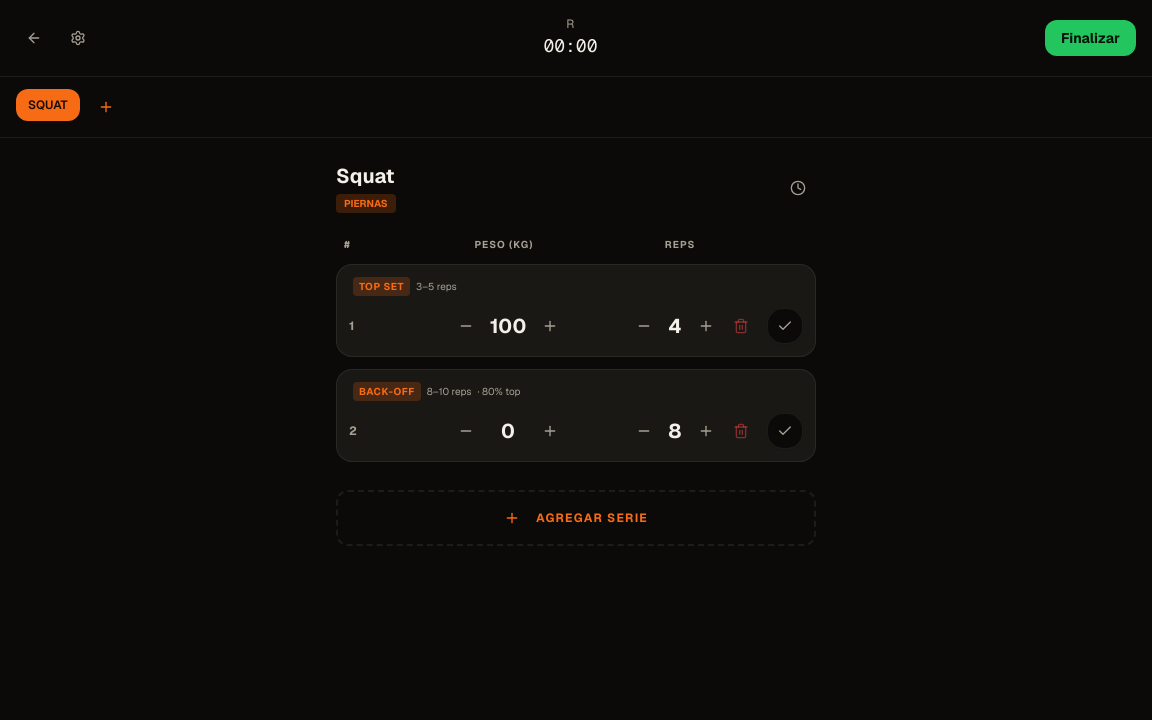
Test: ActiveWorkout removeSet on un-logged plan-driven rows › removes an un-logged planned set locally, without calling deleteWorkoutSet
Step 1. Click the button named "Borrar serie" below "80" → (741, 431), box [723, 413, 759, 449]
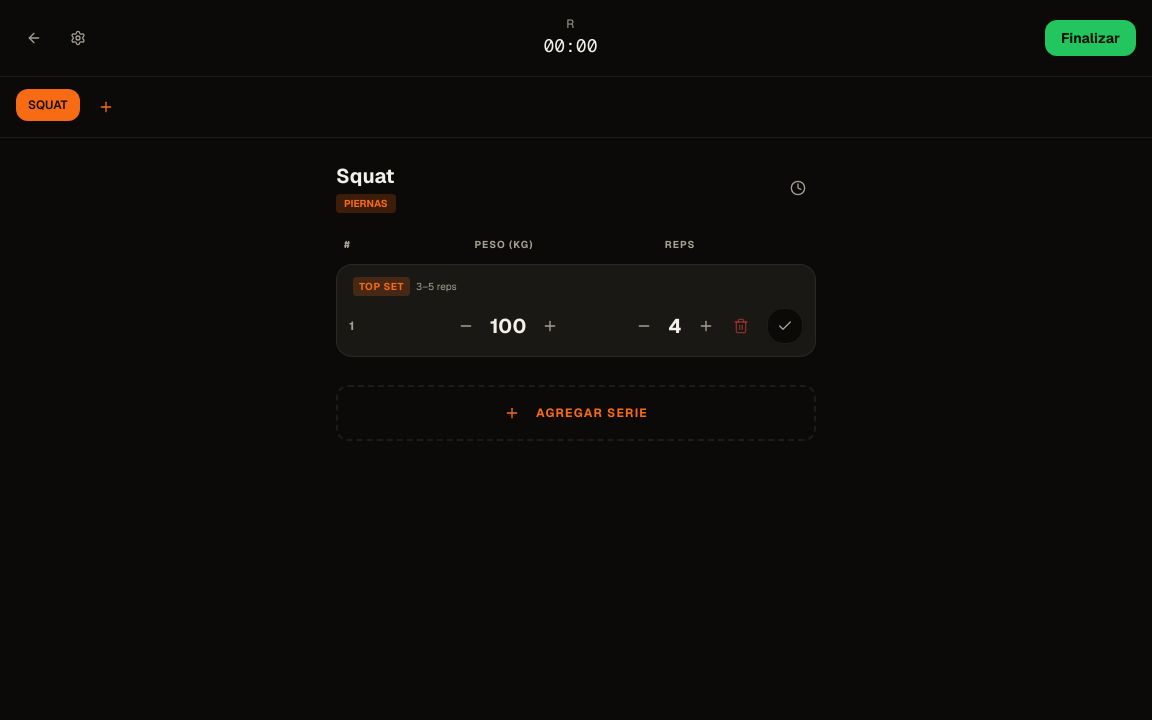
Result: the number of buttons named "Borrar serie" is 1 at [723, 308, 759, 344]
